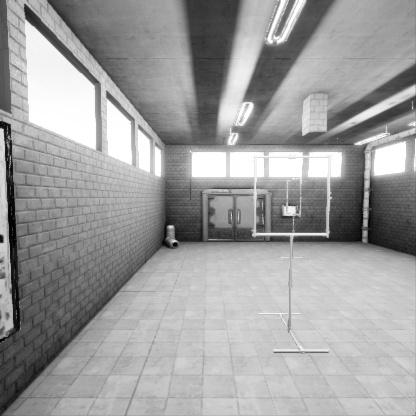gate: (254, 184, 333, 262), (286, 201, 301, 240)
